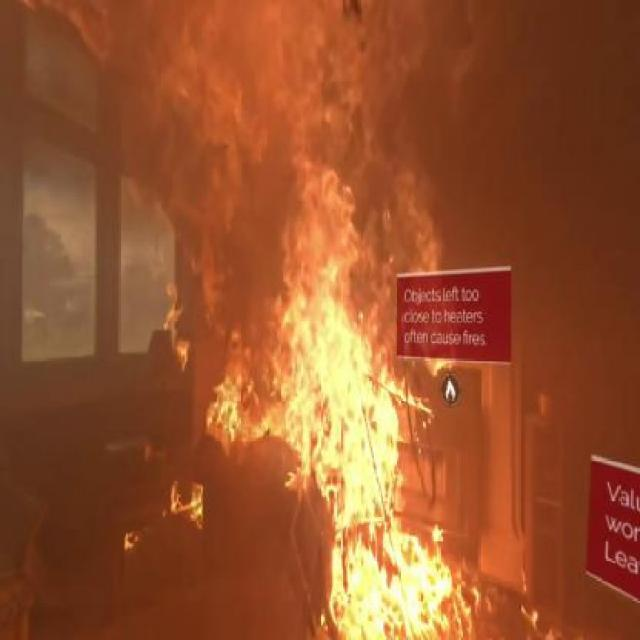fire: (298, 258, 433, 640)
smoke: (442, 1, 622, 247), (0, 60, 103, 294)
